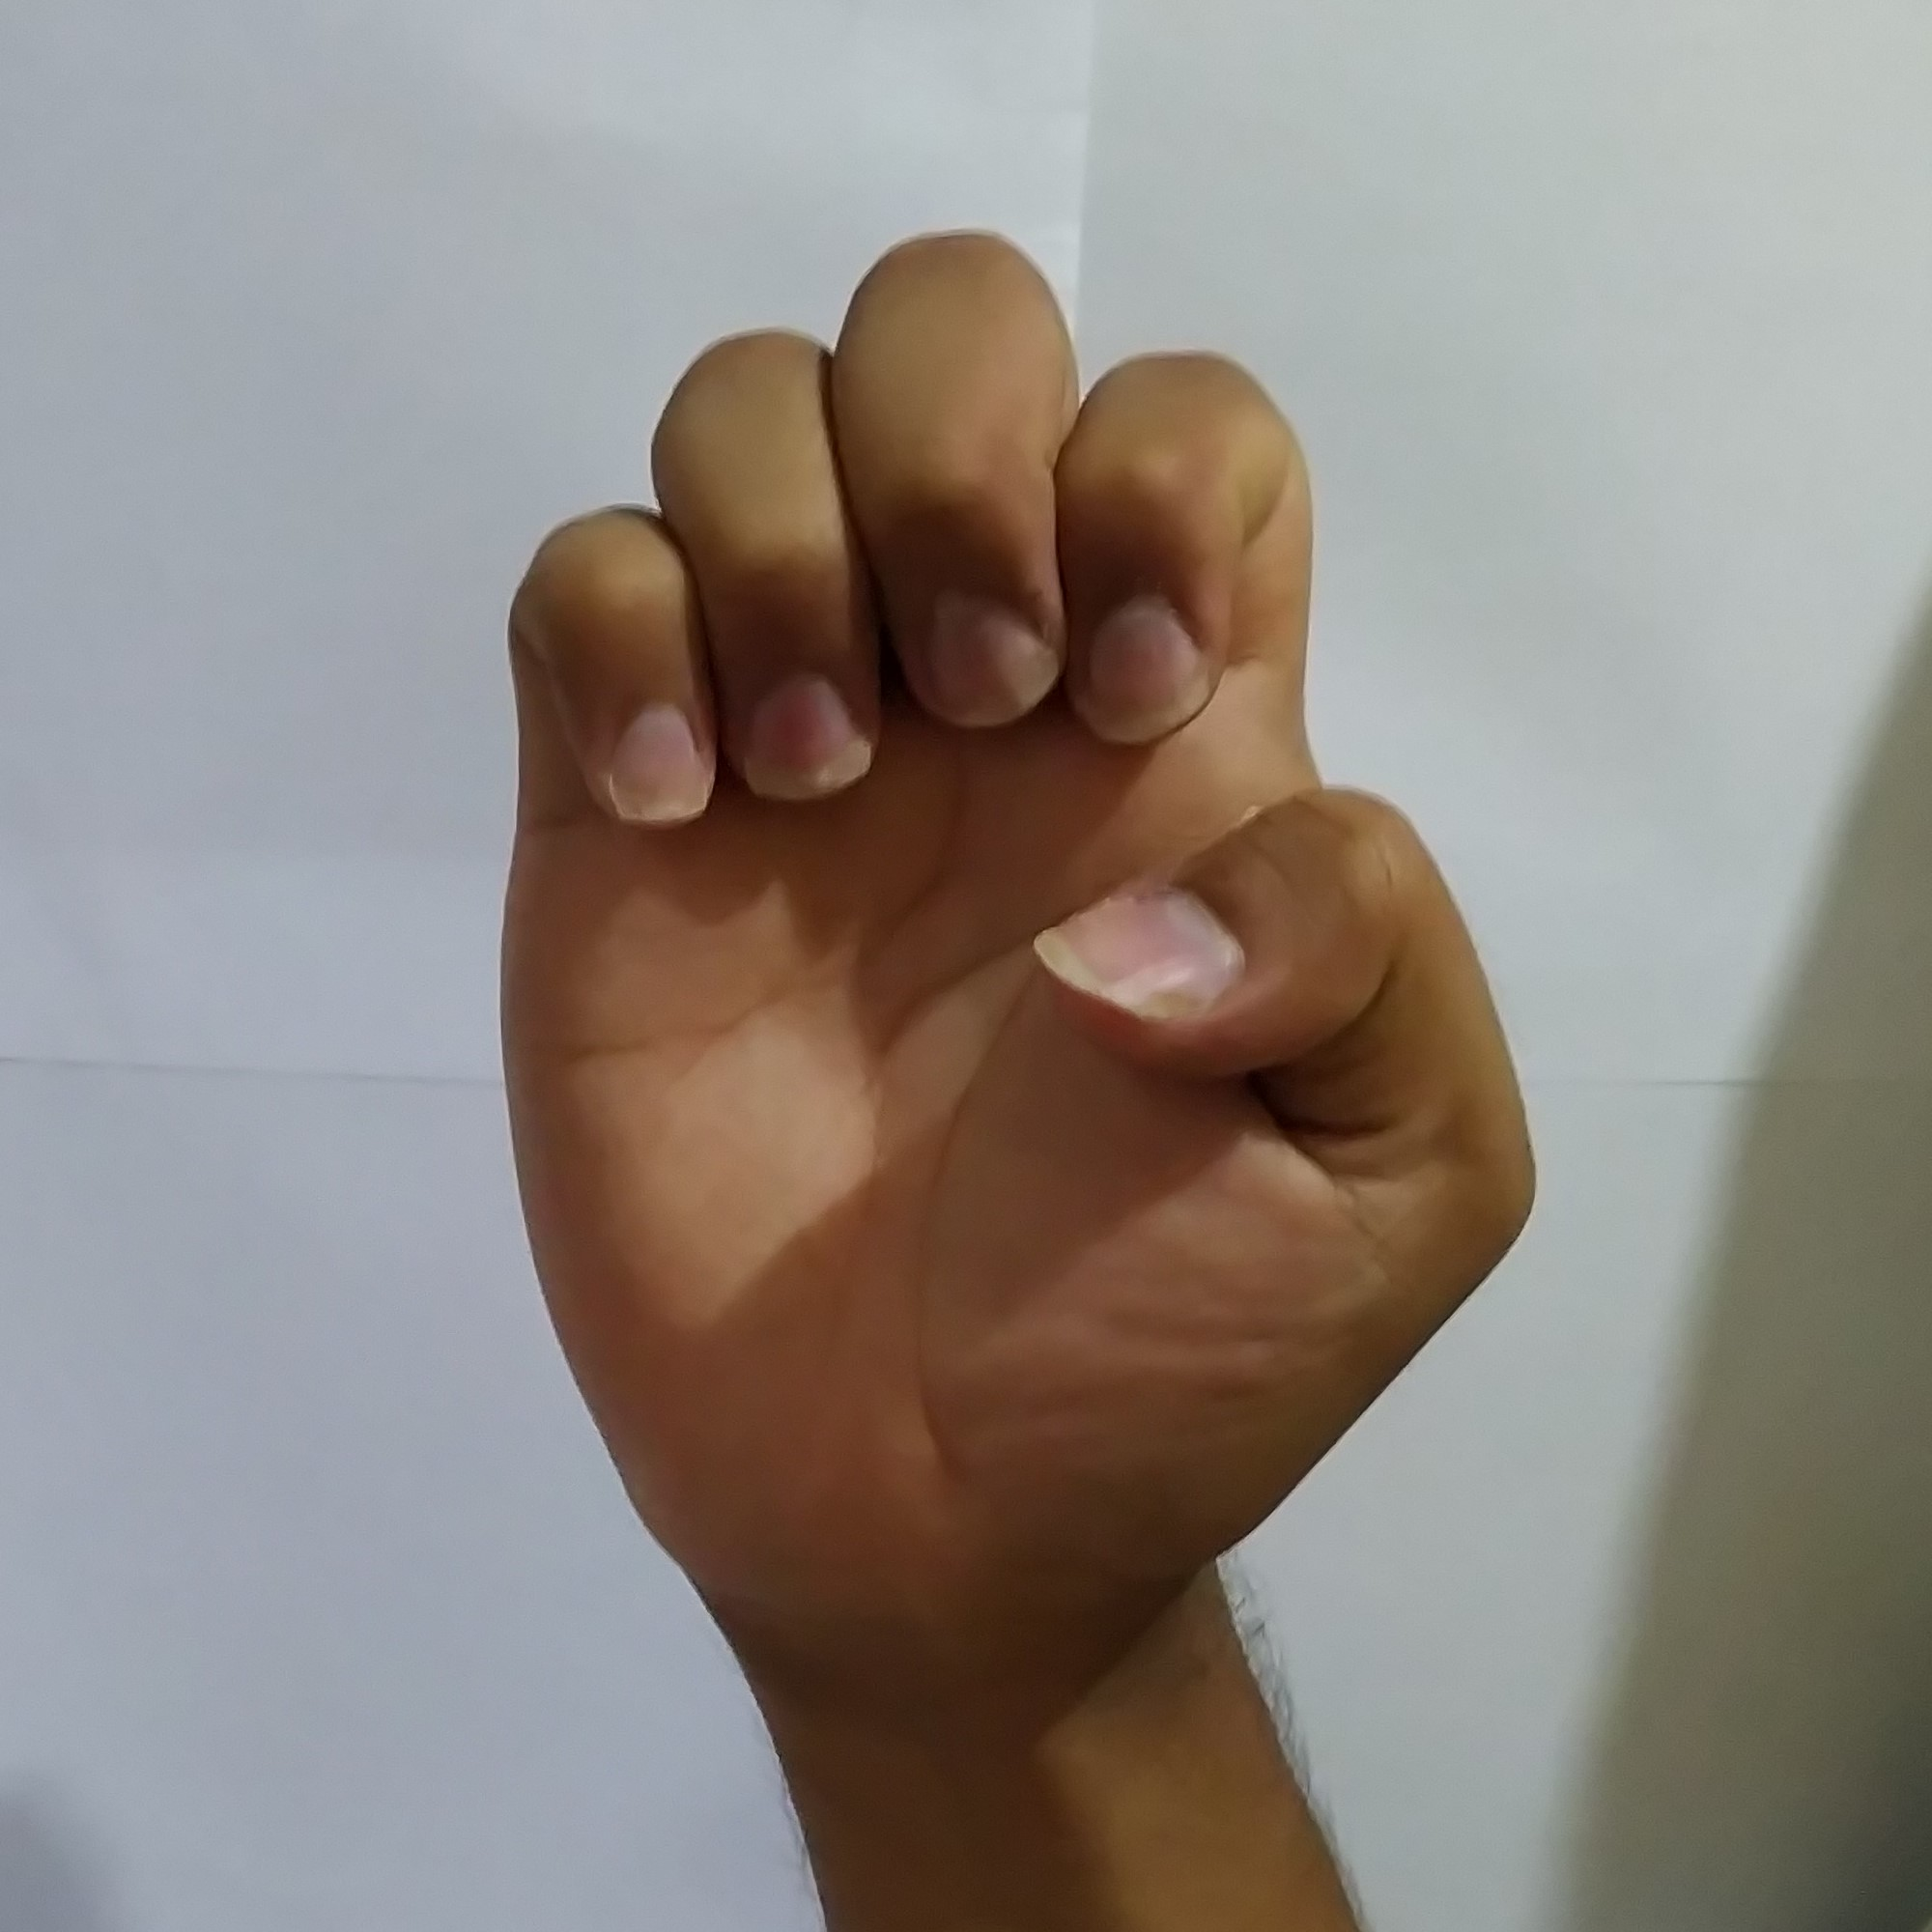E: (467, 212, 1555, 1566)
